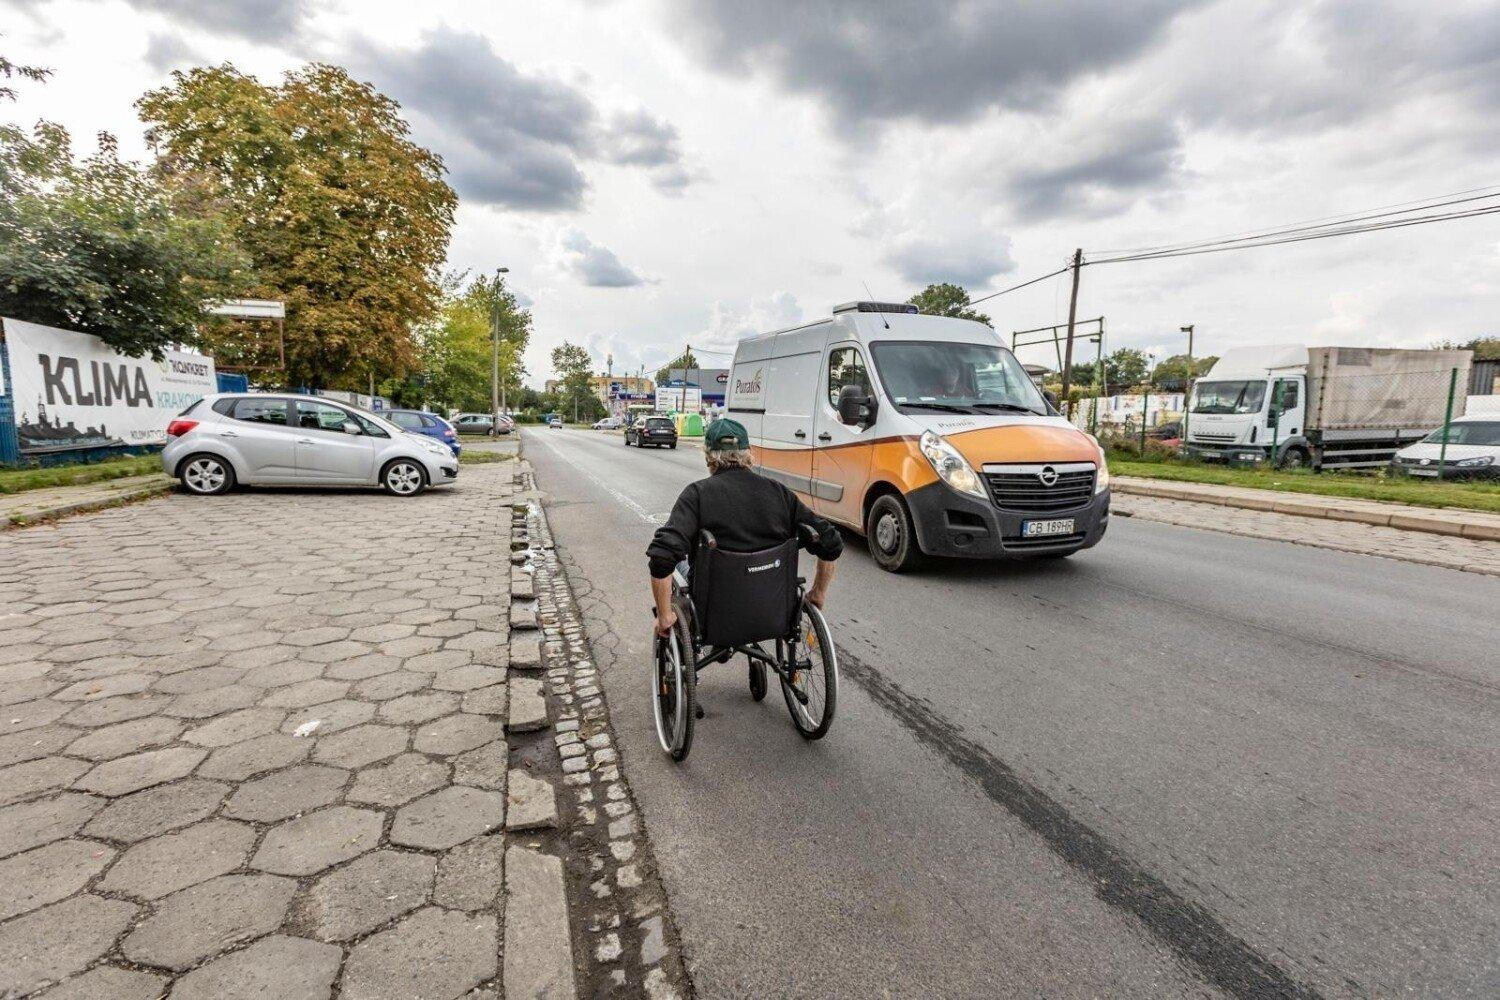wheelchair: (646, 419, 845, 762)
